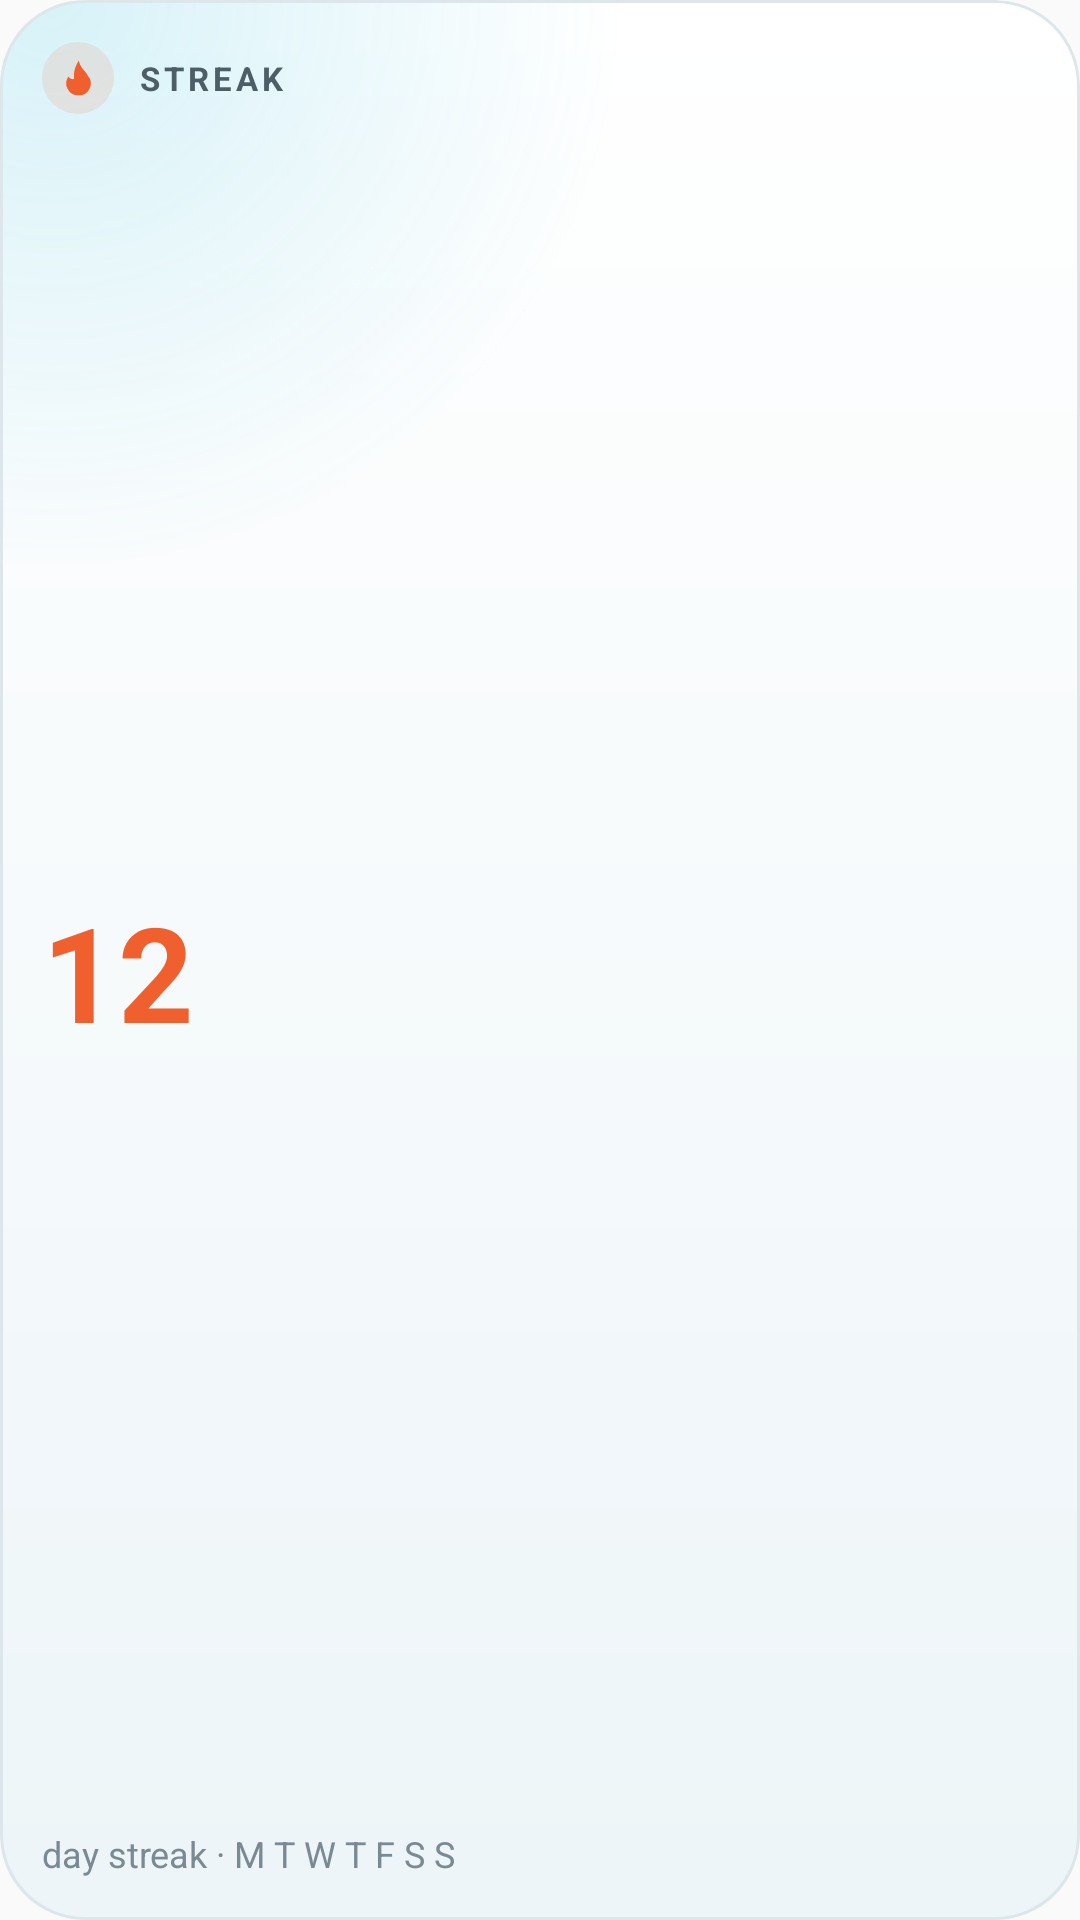

Screen size 1080×1920. Icon name, then its box in pixels as (x1, y1, x2, y2):
widget flame: (42, 42, 114, 114)
